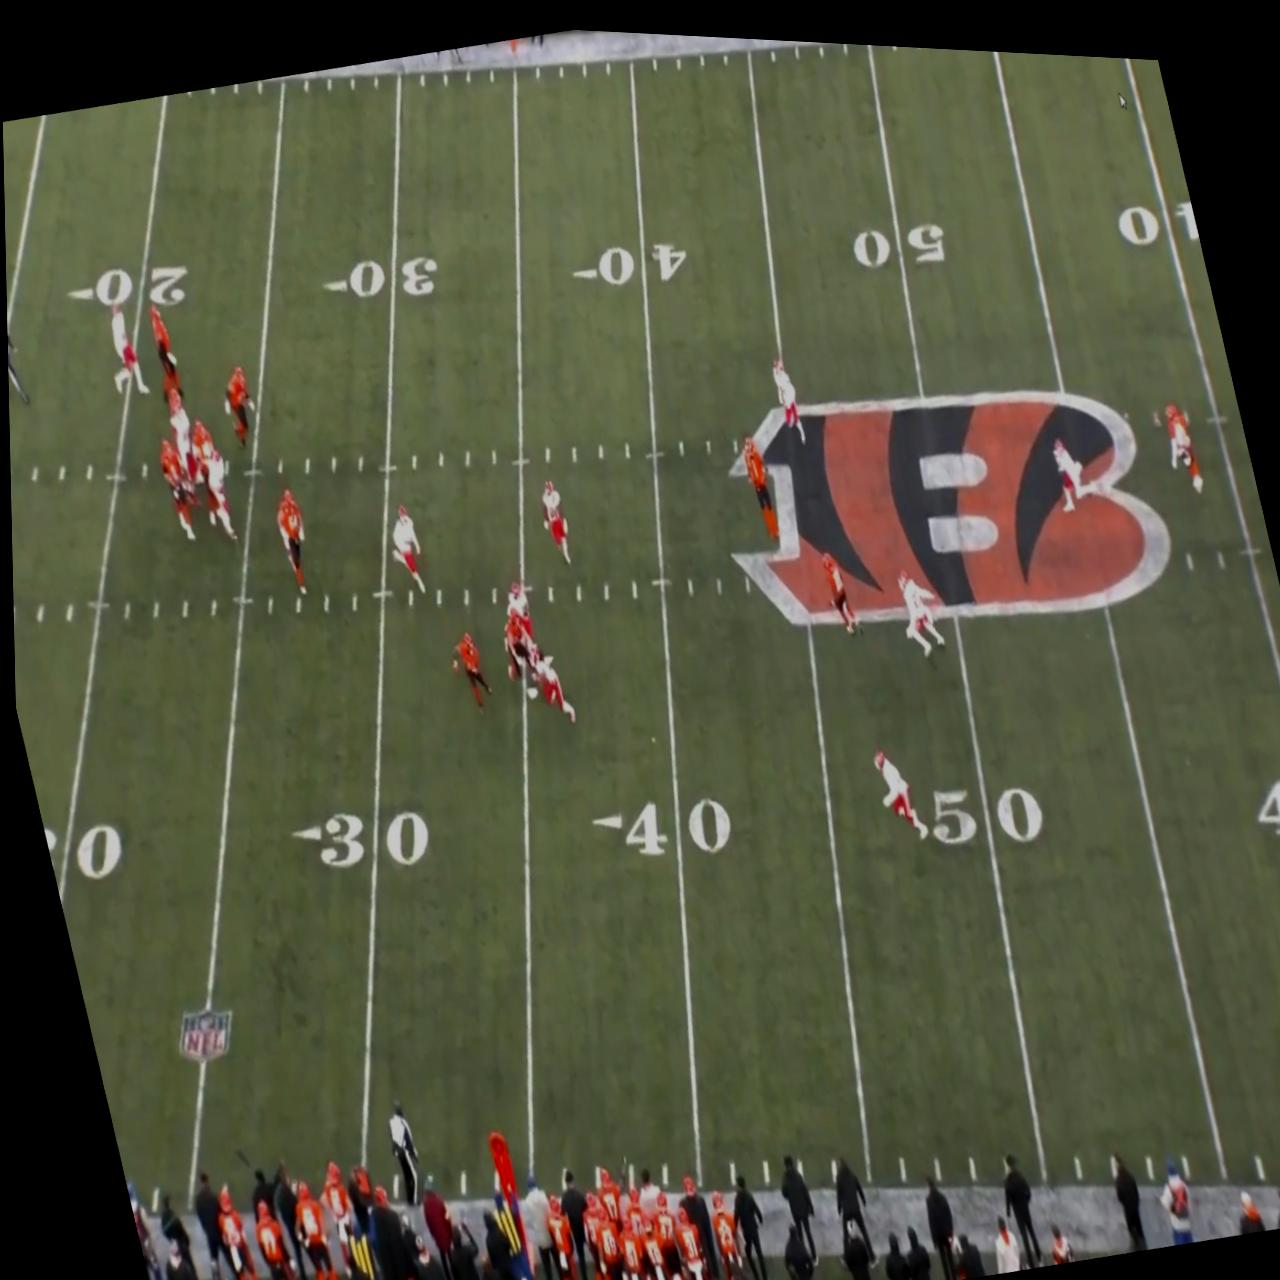20L: (61, 251, 197, 329), (40, 811, 125, 892)
30L: (285, 788, 430, 881), (316, 240, 443, 311)
40L: (586, 776, 733, 870), (566, 223, 690, 295)
40R: (1112, 181, 1200, 244), (1244, 754, 1280, 830)
50: (919, 756, 1043, 850), (847, 203, 949, 270)
